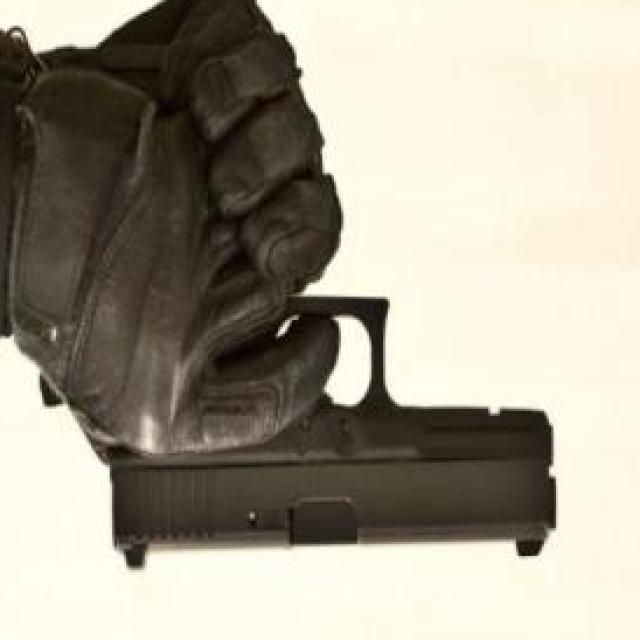pistol: (102, 298, 560, 579)
